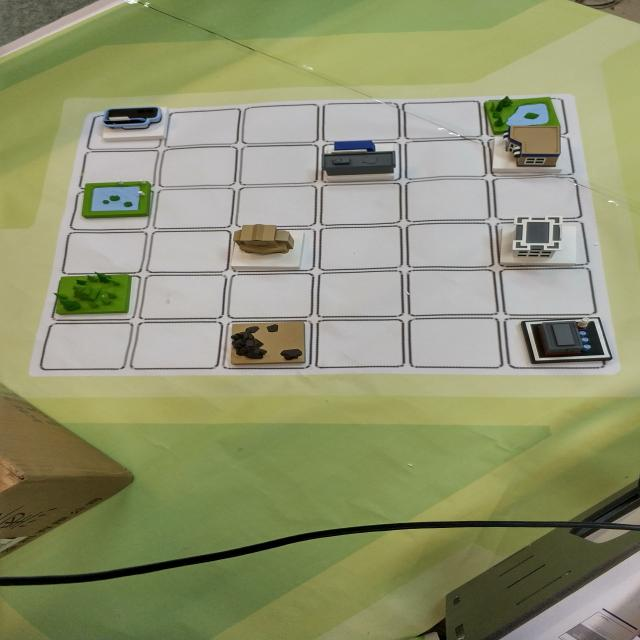bus_stop: (304, 134, 408, 188)
factory: (507, 316, 620, 371)
fish_pool: (74, 174, 174, 228)
forest: (44, 264, 154, 322)
gogo_shop: (87, 98, 185, 151)
research_build: (497, 210, 598, 273)
restaurant: (482, 122, 580, 174)
silicate_rock: (217, 314, 319, 370)
volunteer_center: (223, 220, 320, 276)
wet_land: (470, 95, 582, 138)
